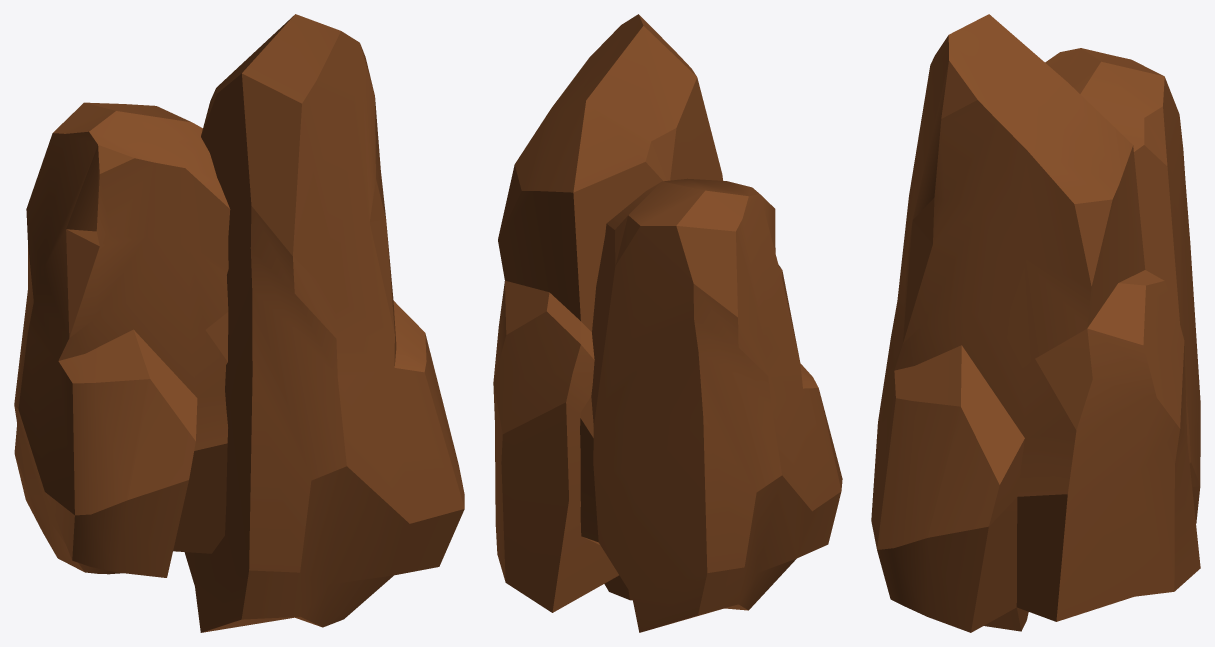
The model's file is Rock 4.glb.
3 views of the same model, side by side, from view 1: azimuth 30°, elevation 25°; view 2: azimuth 150°, elevation 25°; view 3: azimuth 270°, elevation 25° (orthographic). The views are drawn at different scales.
Visible parts, largest first — view 1: Rock_4; view 2: Rock_4; view 3: Rock_4.
Part boxes in pixels (x1,y1,x2,y2): Rock_4: [14, 14, 464, 632]; Rock_4: [493, 14, 842, 632]; Rock_4: [871, 14, 1200, 632].
Size of the model in its own units: 2.16 by 3.46 by 1.7.
Materials: 1 (1 with a texture image).
